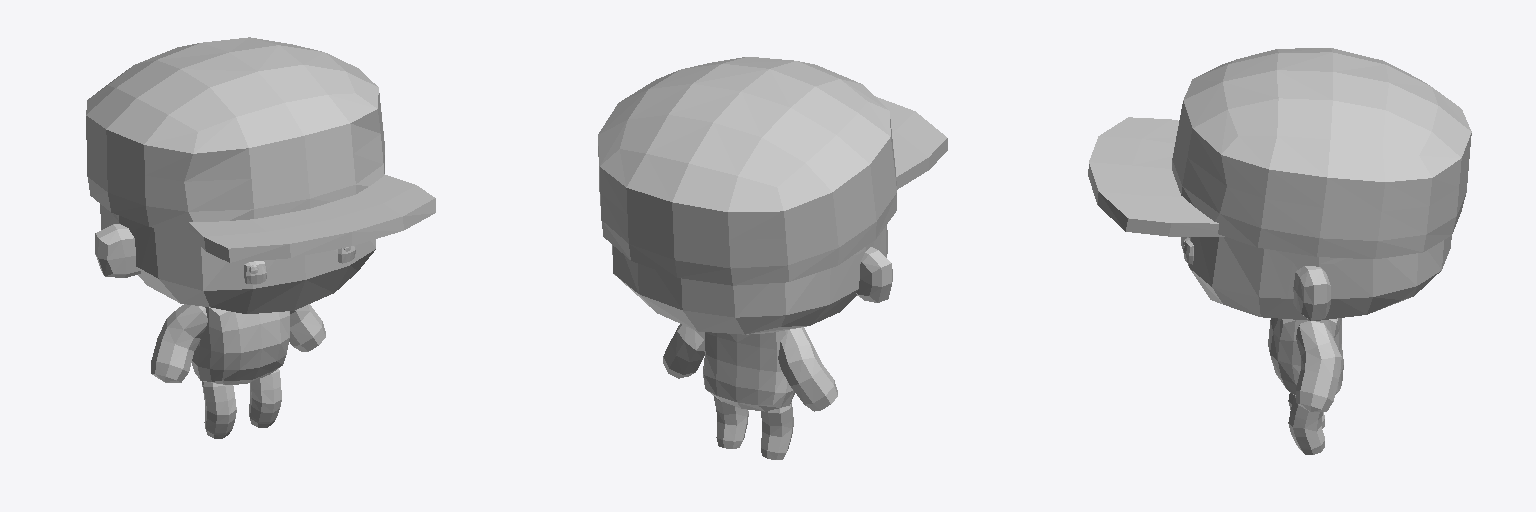
File: idle_0037.obj
3 views of the same model, side by side, from view 1: azimuth 30°, elevation 25°; view 2: azimuth 150°, elevation 25°; view 3: azimuth 270°, elevation 25° (orthographic).
Parts seen in each view (by area): view 1: Object_41, Object_42, Object_36, Object_44, Object_38; view 2: Object_41, Object_44, Object_36, Object_42; view 3: Object_41, Object_36, Object_42, Object_44.
Part boxes in pixels (bbox=[...]): Object_41: bbox=[86, 37, 384, 232]; Object_42: bbox=[184, 109, 435, 262]; Object_36: bbox=[95, 204, 375, 313]; Object_44: bbox=[151, 304, 325, 438]; Object_38: bbox=[244, 245, 356, 284]; Object_41: bbox=[598, 57, 896, 285]; Object_44: bbox=[663, 324, 837, 459]; Object_36: bbox=[612, 225, 892, 334]; Object_42: bbox=[875, 96, 947, 189]; Object_41: bbox=[1183, 48, 1471, 258]; Object_36: bbox=[1181, 236, 1451, 320]; Object_42: bbox=[1088, 101, 1226, 236]; Object_44: bbox=[1268, 318, 1343, 454].
Bounding box in the file's own units: 0.9691 × 1.22 × 1.14.